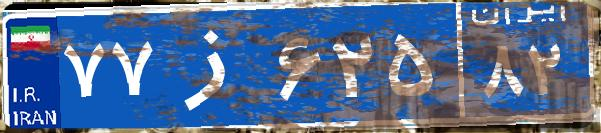2: (330, 28, 385, 110), (525, 38, 570, 115)
5: (385, 28, 445, 110)
6: (273, 28, 330, 110)
7: (57, 26, 110, 107), (110, 28, 158, 105)
8: (475, 38, 525, 113)
ز: (158, 15, 273, 115)
